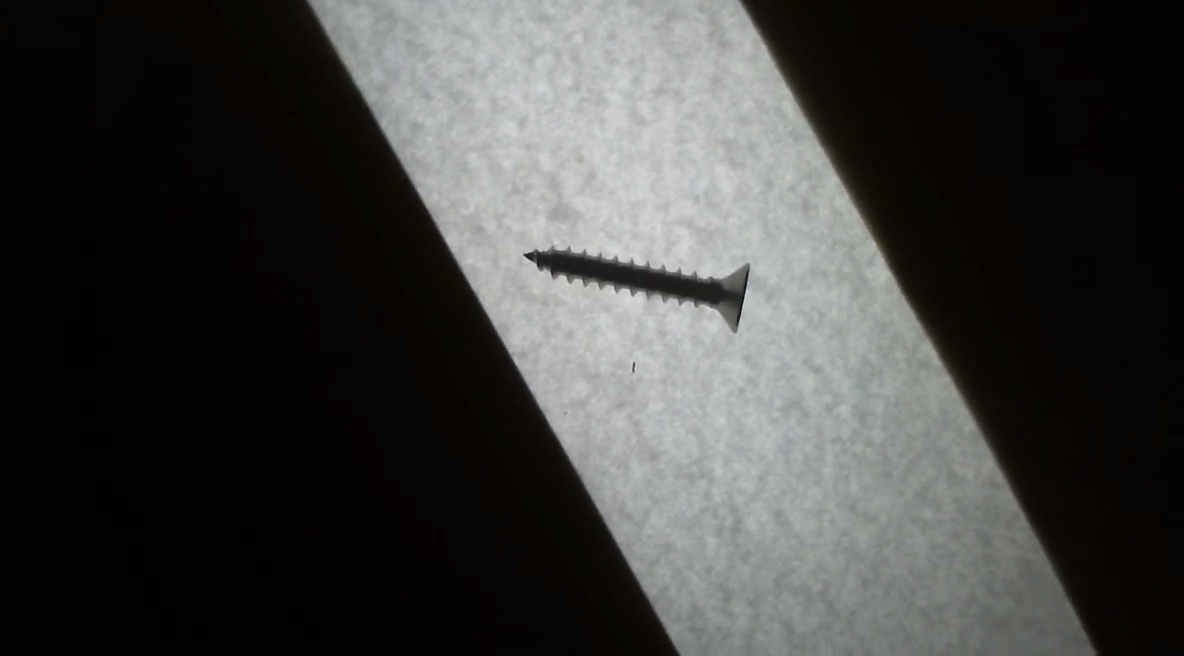S001: (510, 222, 771, 346)
